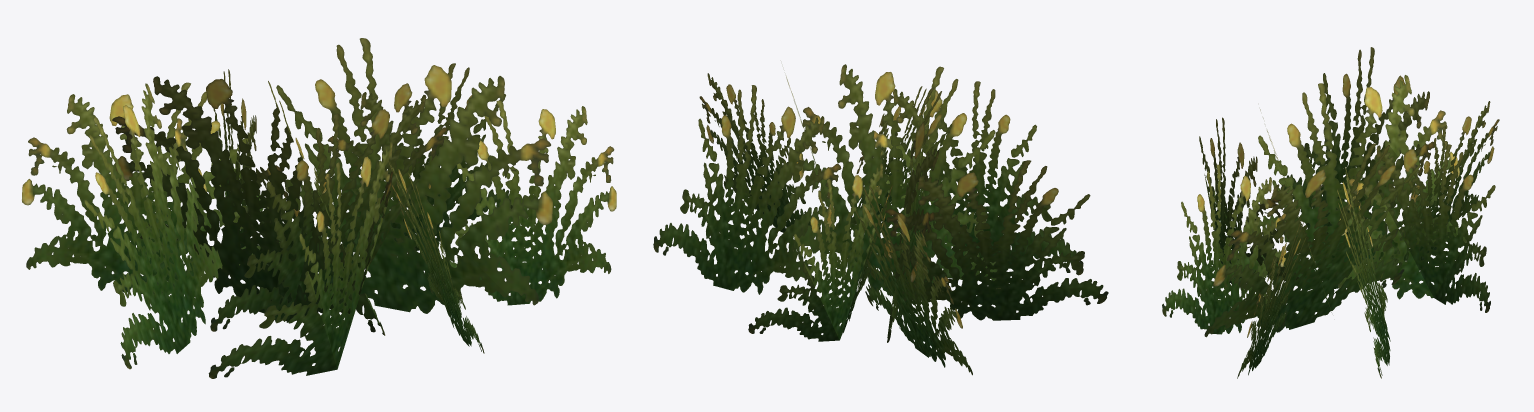
File: wm_灌木小灌木05.fbx
3 renders of one model, left to right at view 1: azimuth 30°, elevation 25°; view 2: azimuth 150°, elevation 25°; view 3: azimuth 270°, elevation 25°, orthographic. The views are drawn at different scales.
Parts seen in each view (by area): view 1: wm_灌木小灌木05; view 2: wm_灌木小灌木05; view 3: wm_灌木小灌木05.
Boxes of the visible parts, left/top/right/bottom form: wm_灌木小灌木05: left=22, top=38, right=616, bottom=378; wm_灌木小灌木05: left=653, top=64, right=1108, bottom=375; wm_灌木小灌木05: left=1162, top=47, right=1499, bottom=378.
Size of the model in its own units: 197 by 88 by 140.
